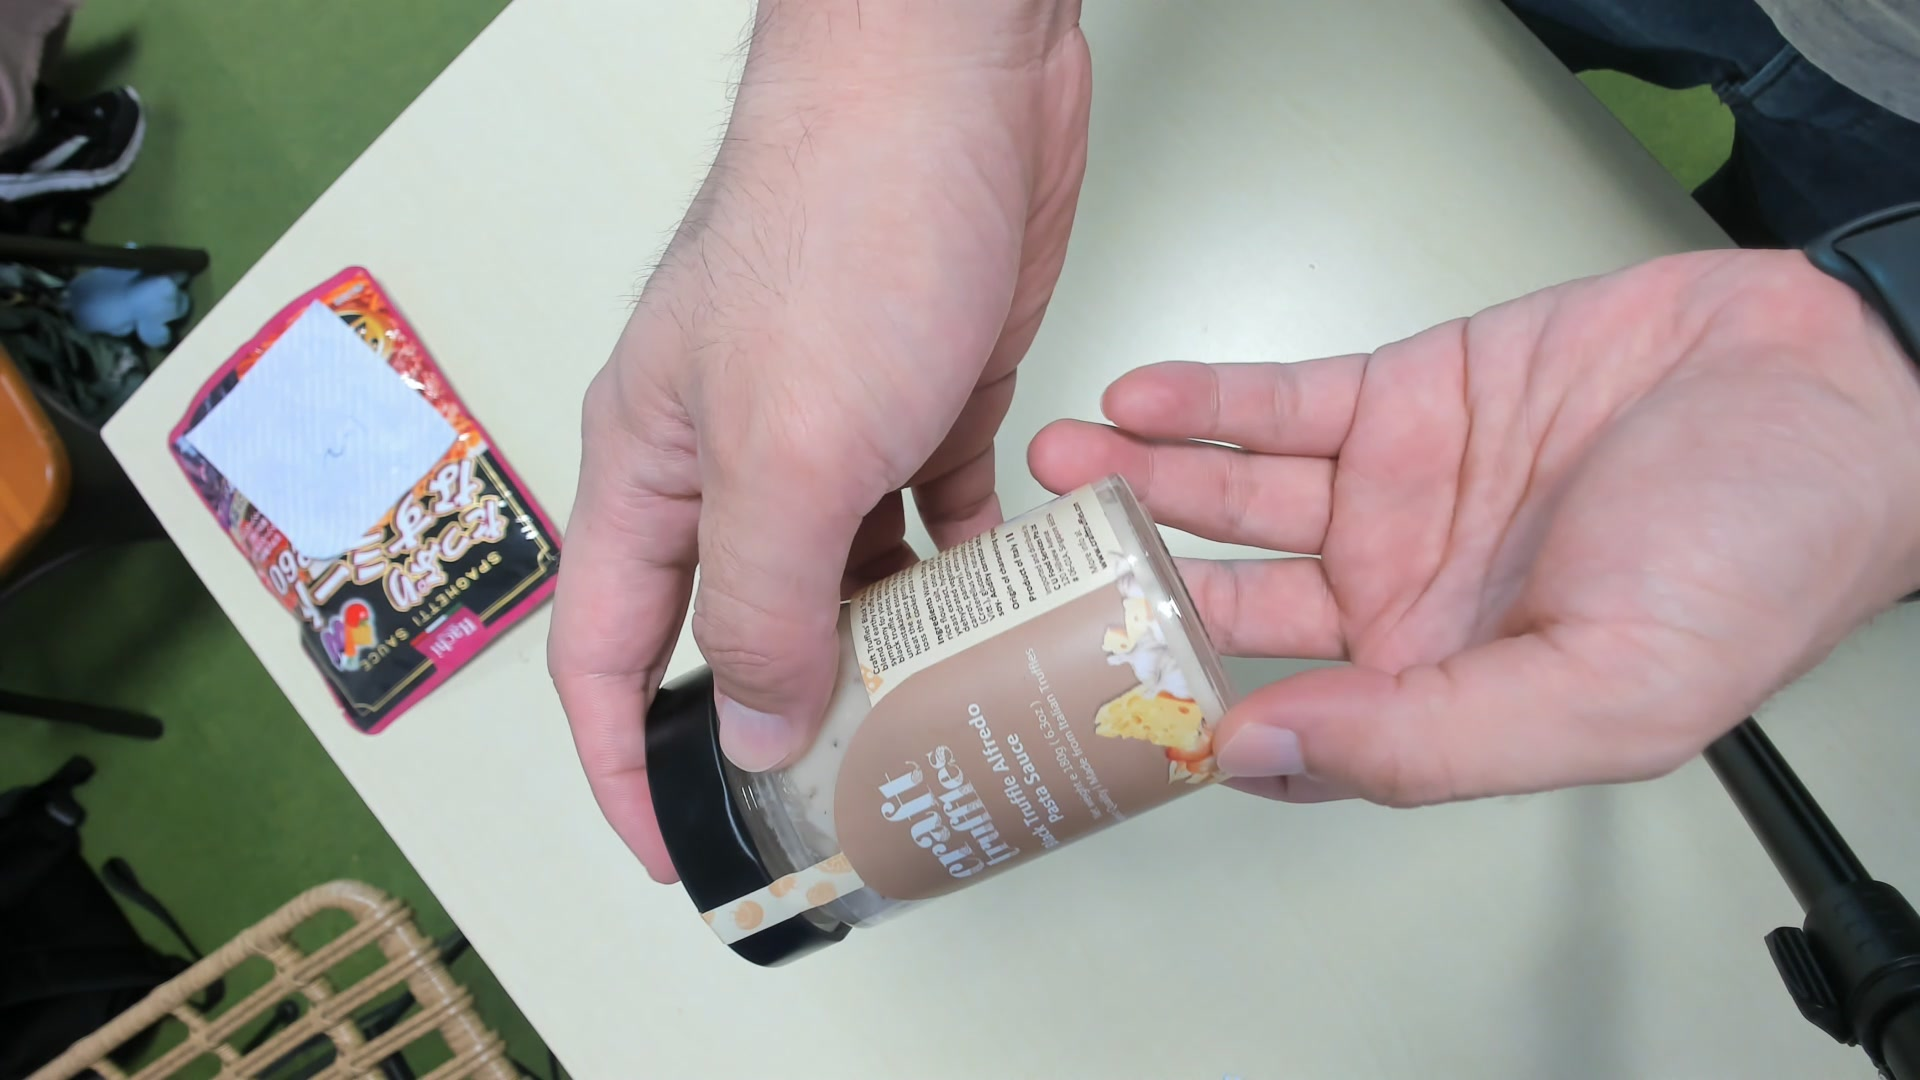PastaSauce_100-199g_Halal_NonHealthy: (647, 471, 1244, 959)
